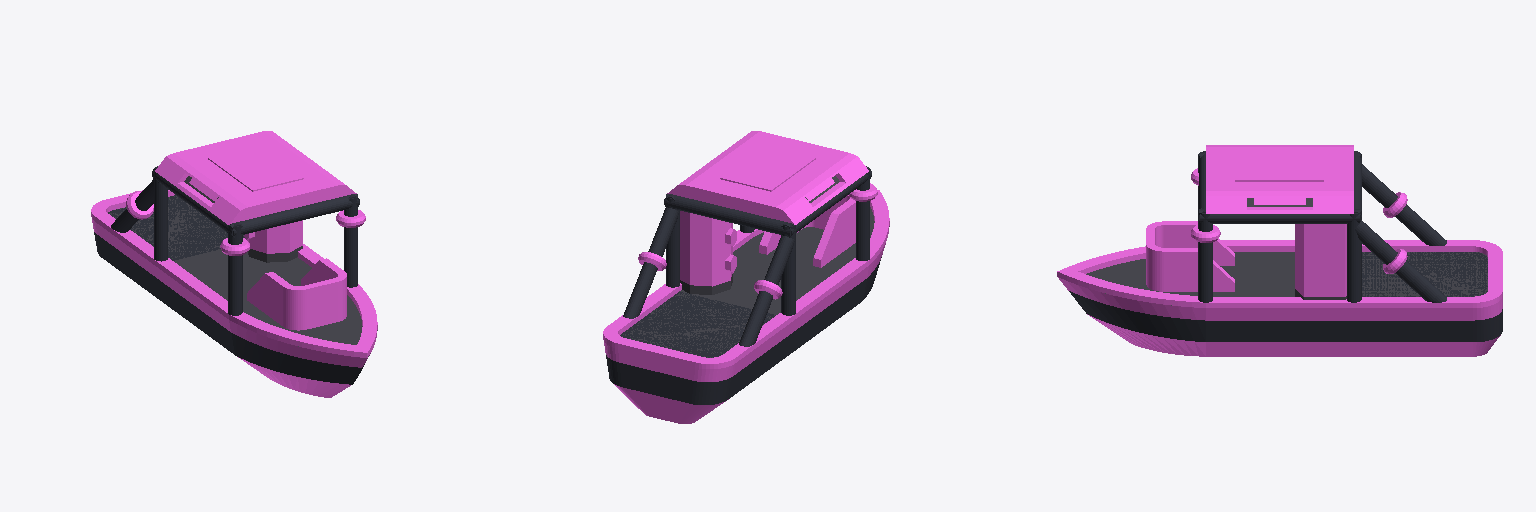
File: Boat10.obj
3 renders of one model, left to right at view 1: azimuth 30°, elevation 25°; view 2: azimuth 150°, elevation 25°; view 3: azimuth 270°, elevation 25°, orthographic.
Visible parts, largest first — view 1: diesel_cabin_detail, hull_halfFrontSmooth, mast_middle, hull_half, hull_halfBack, hut_half, rail_frontSmooth, steam_engine_round, rail, rail_back, detail_tire; view 2: hull_halfBack, diesel_cabin_detail, mast_middle, hull_half, steam_engine_round, rail_back, hut_half, rail, hull_halfFrontSmooth, rail_frontSmooth, detail_tire; view 3: hull_halfBack, diesel_cabin_detail, hull_half, mast_middle, hull_halfFrontSmooth, hut_half, steam_engine_round, rail_back, rail_frontSmooth, rail, detail_tire.
Part boxes in pixels (bbox=[...]): diesel_cabin_detail: bbox=[155, 131, 356, 224]; hull_halfFrontSmooth: bbox=[229, 295, 377, 397]; mast_middle: bbox=[111, 166, 359, 315]; hull_half: bbox=[155, 249, 311, 354]; hull_halfBack: bbox=[92, 195, 244, 300]; hut_half: bbox=[247, 258, 346, 330]; rail_frontSmooth: bbox=[229, 284, 377, 357]; steam_engine_round: bbox=[244, 220, 302, 262]; rail: bbox=[155, 244, 323, 318]; rail_back: bbox=[91, 190, 174, 264]; detail_tire: bbox=[126, 191, 365, 255]; hull_halfBack: bbox=[604, 291, 794, 423]; diesel_cabin_detail: bbox=[667, 131, 868, 224]; mast_middle: bbox=[623, 166, 871, 346]; hull_half: bbox=[680, 237, 868, 354]; steam_engine_round: bbox=[680, 211, 736, 294]; rail_back: bbox=[603, 284, 794, 368]; hut_half: bbox=[759, 195, 855, 267]; rail: bbox=[679, 230, 868, 318]; hull_halfFrontSmooth: bbox=[755, 207, 889, 299]; rail_frontSmooth: bbox=[754, 190, 889, 264]; detail_tire: bbox=[638, 183, 877, 299]; hull_halfBack: bbox=[1354, 252, 1502, 356]; diesel_cabin_detail: bbox=[1206, 145, 1353, 213]; hull_half: bbox=[1206, 252, 1353, 356]; mast_middle: bbox=[1198, 151, 1446, 302]; hull_halfFrontSmooth: bbox=[1058, 259, 1205, 356]; hut_half: bbox=[1146, 221, 1234, 291]; steam_engine_round: bbox=[1295, 224, 1346, 299]; rail_back: bbox=[1354, 240, 1502, 307]; rail_frontSmooth: bbox=[1057, 246, 1205, 307]; rail: bbox=[1206, 240, 1353, 307]; detail_tire: bbox=[1191, 168, 1407, 273].
Bounding box in the file's own units: 1.1 × 1.31 × 3.